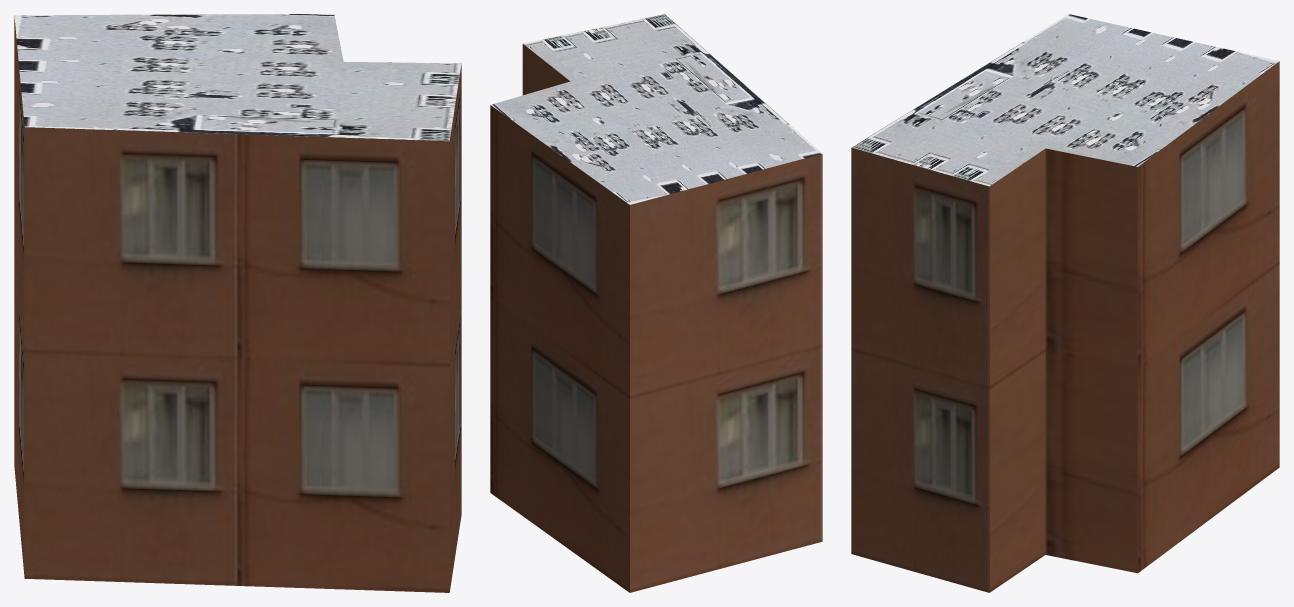
File: ResTex__4220.fbx
3 renders of one model, left to right at view 1: azimuth 30°, elevation 25°; view 2: azimuth 150°, elevation 25°; view 3: azimuth 270°, elevation 25°, orthographic. The views are drawn at different scales.
Visible parts, largest first — view 1: CityEngineMaterial_20_m, CityEngineMaterial_4_m; view 2: CityEngineMaterial_20_m, CityEngineMaterial_4_m; view 3: CityEngineMaterial_20_m, CityEngineMaterial_4_m.
Boxes of the visible parts, x1,y1,x2,y2 form: CityEngineMaterial_20_m: (14,16,461,592); CityEngineMaterial_4_m: (14,14,461,141); CityEngineMaterial_20_m: (490,44,822,592); CityEngineMaterial_4_m: (491,14,822,204); CityEngineMaterial_20_m: (851,61,1279,592); CityEngineMaterial_4_m: (852,14,1279,186).
Bounding box in the file's own units: 5.46 × 6 × 5.73.
Materials: 2 (2 with a texture image).
